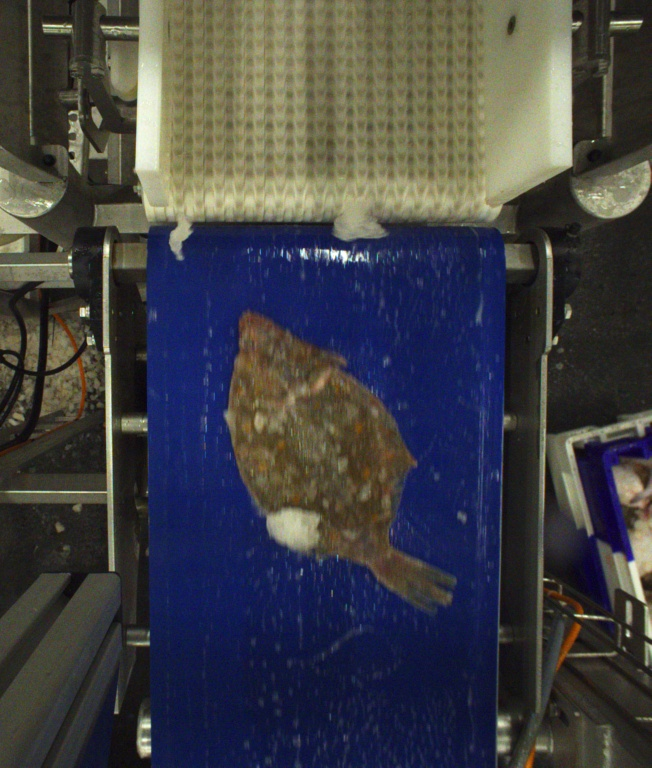PLE: (229, 313, 456, 616)
